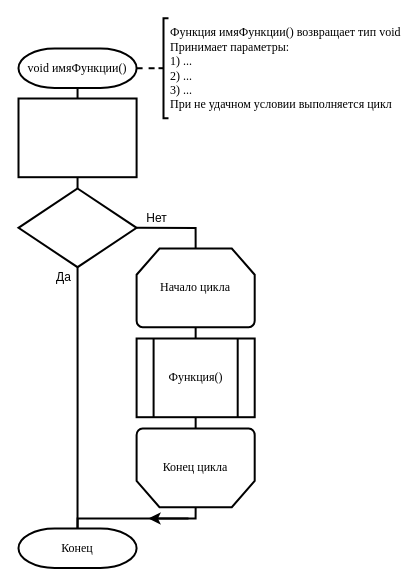
The diagram is 418 pixels wide and 586 high, and some of its shapes have lost their labels. Here are the shapes that lost their labels. From the top down, the centre of each, then its label:
the point at 77,137: Действие
the point at 77,227: Условие?
